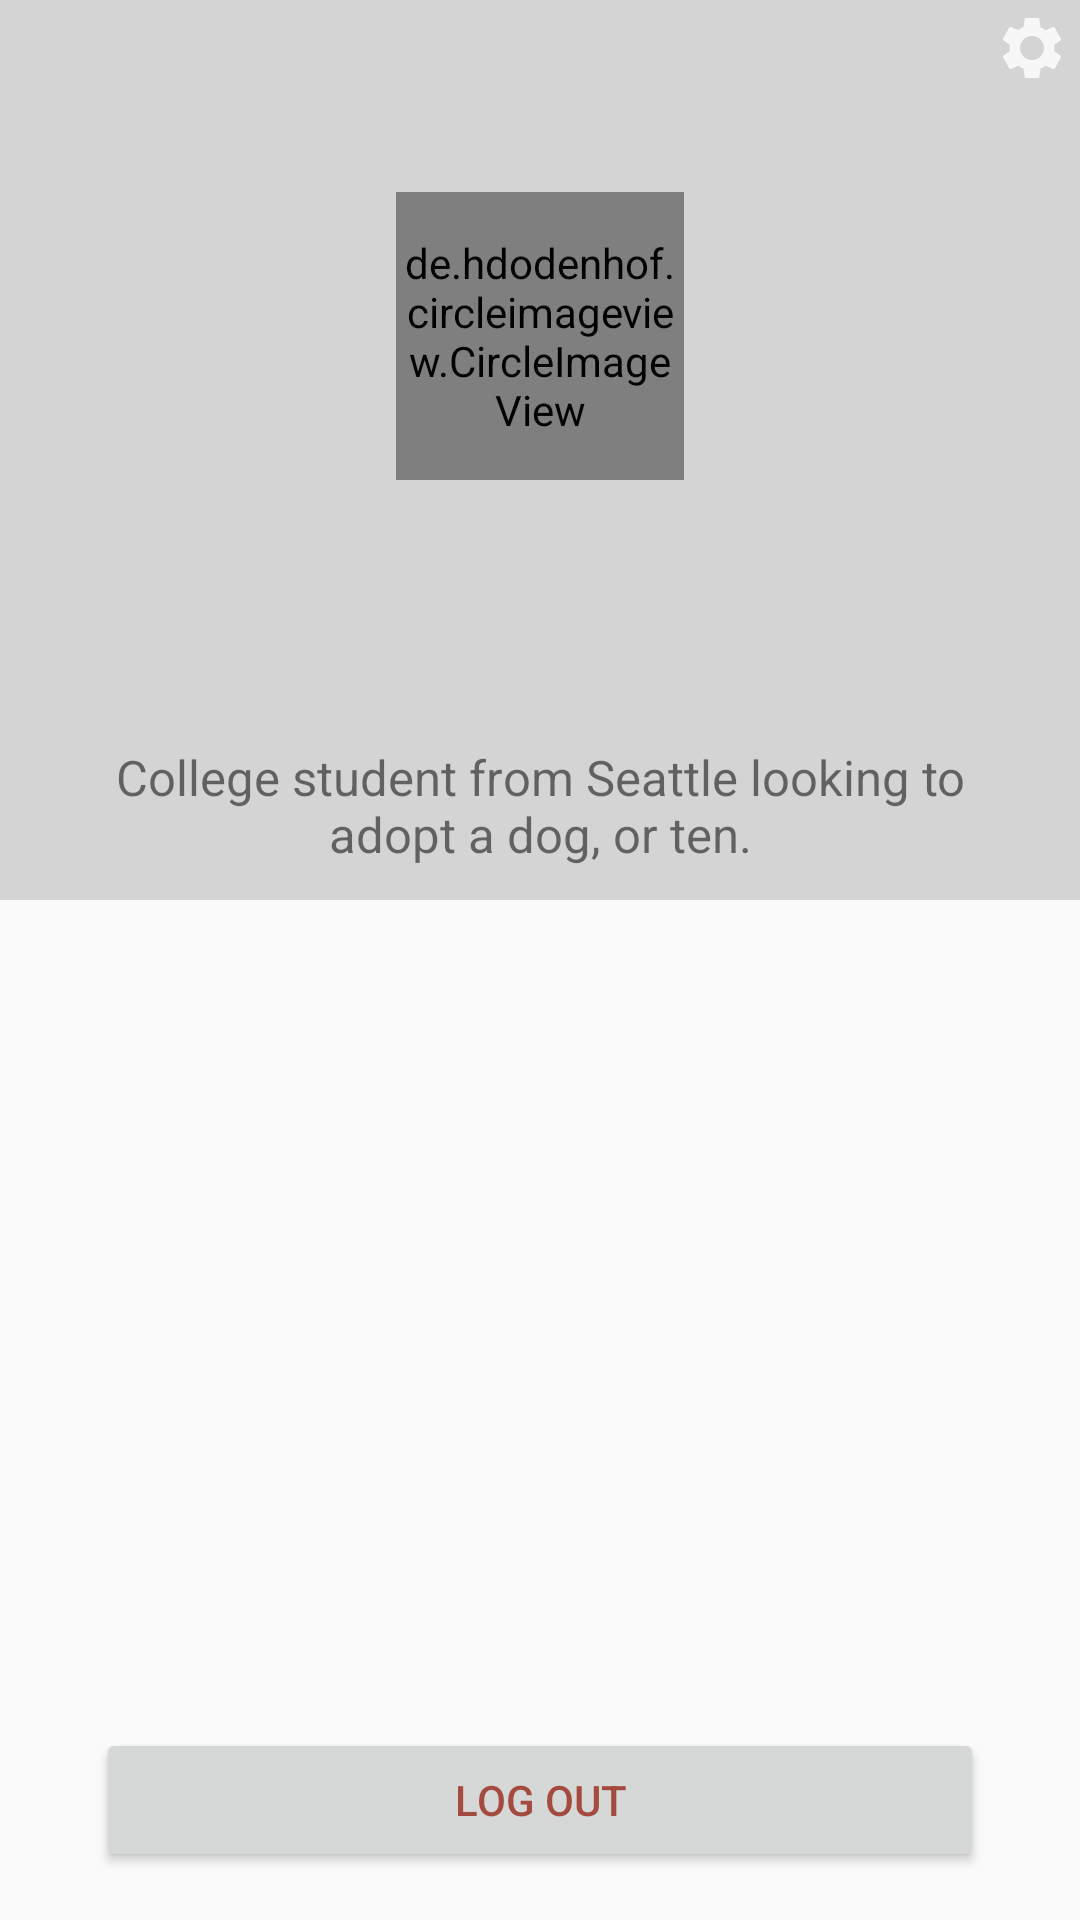

Where to tap for icons on this 1080x1920 app screen, as [x,y]:
settings: [1032,48]
